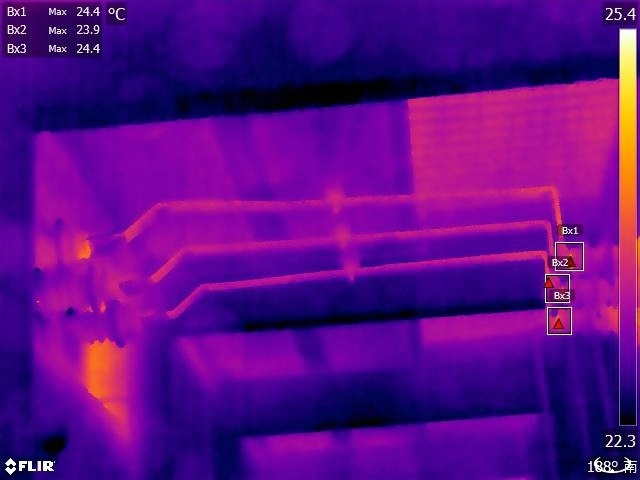tube: (1, 213, 95, 281), (14, 269, 118, 320), (52, 295, 143, 351), (551, 233, 640, 280), (554, 305, 640, 349), (549, 275, 640, 313)
